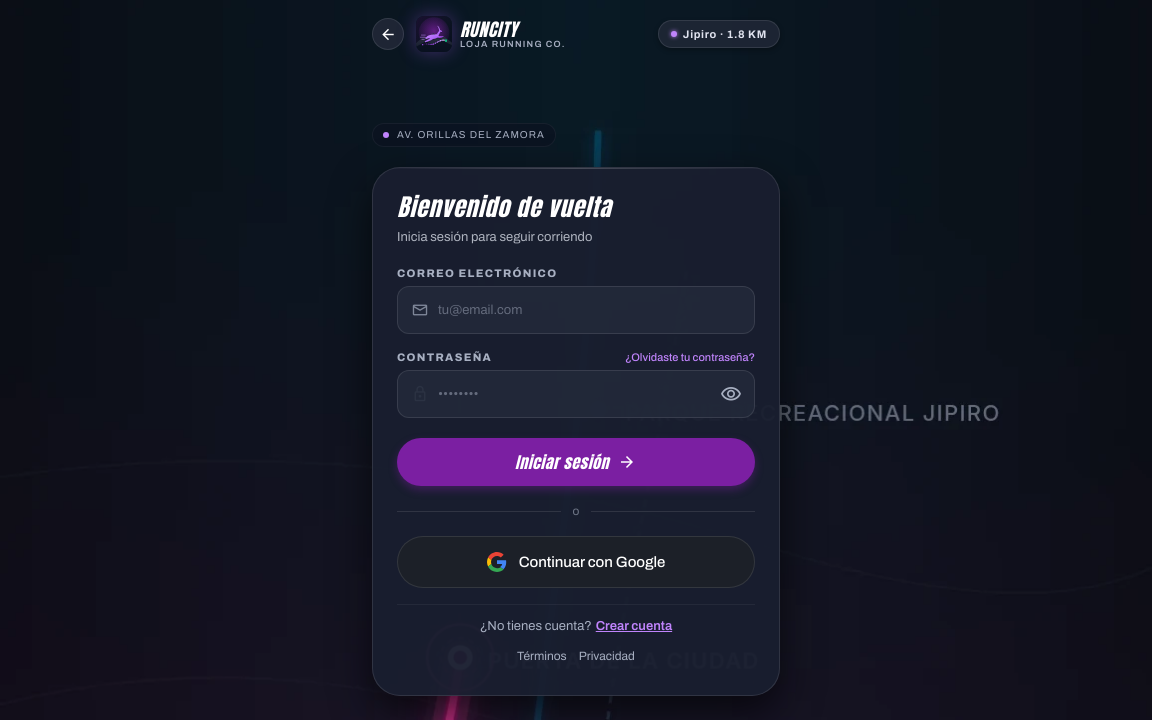
Test: Continuar con Google › sin servidor explica que no esta disponible
Click the button "Continuar con Google": coordinates (576, 562) [397,536,755,588]
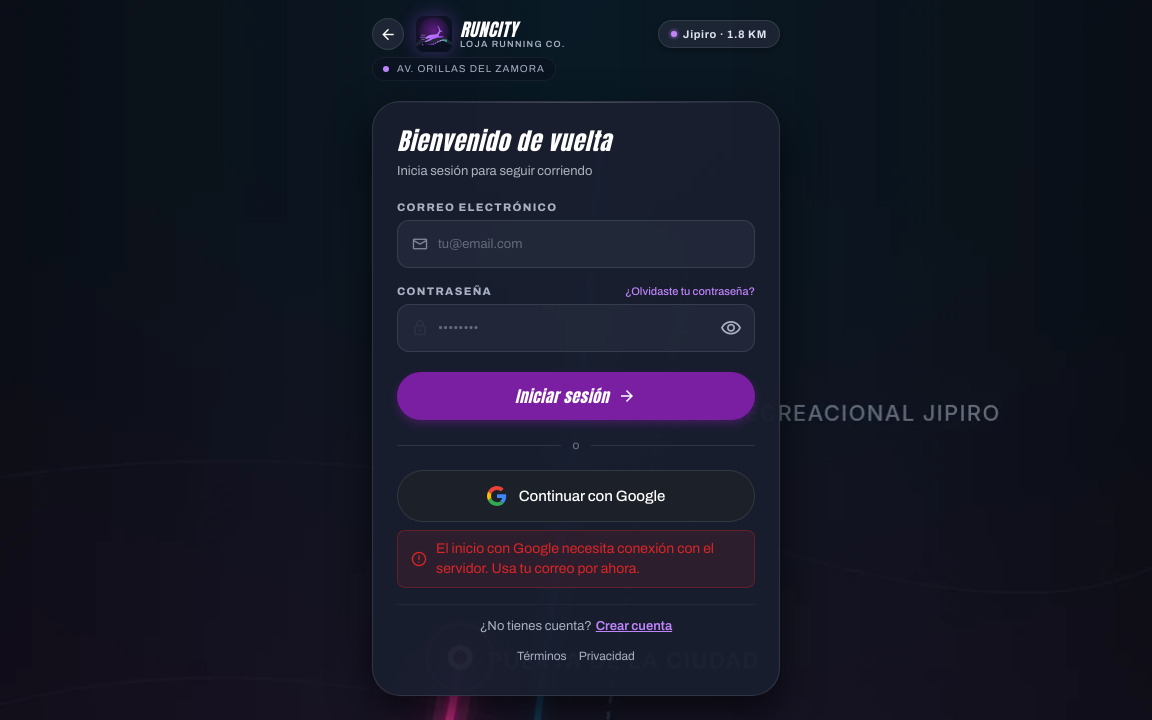
Now the message shows "servidor", box [436,541,714,576]
